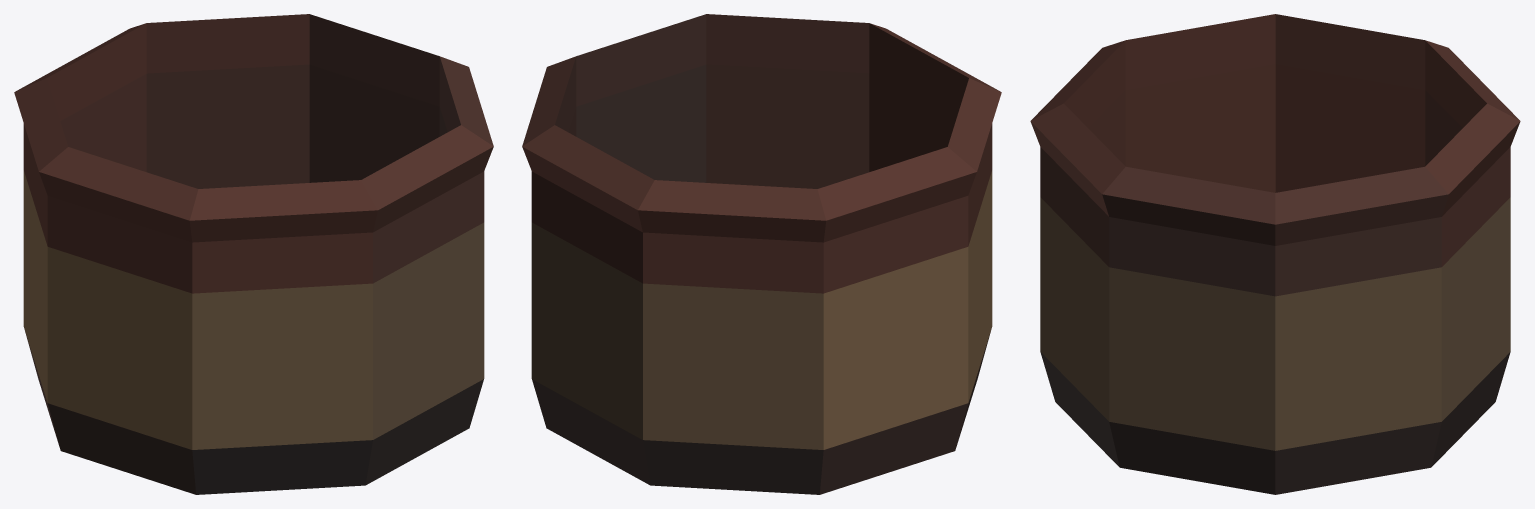
File: Decor_PotA.fbx
3 views of the same model, side by side, from view 1: azimuth 30°, elevation 25°; view 2: azimuth 150°, elevation 25°; view 3: azimuth 270°, elevation 25° (orthographic).
Parts seen in each view (by area): view 1: Decor_PotA; view 2: Decor_PotA; view 3: Decor_PotA.
Boxes of the visible parts, box(x1,y1,x2,y2) form: Decor_PotA: box(14, 14, 493, 494); Decor_PotA: box(522, 14, 1001, 494); Decor_PotA: box(1030, 14, 1520, 494).
Bounding box in the file's own units: 52.1 × 35 × 52.1.
